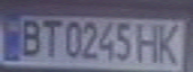0: (60, 17, 84, 60)
2: (78, 18, 100, 61)
4: (97, 19, 118, 62)
5: (112, 19, 139, 63)
B: (15, 16, 45, 58)
H: (133, 19, 163, 64)
K: (154, 20, 187, 66)
T: (36, 16, 63, 58)
